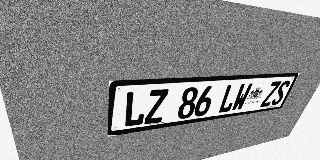6: (193, 85, 217, 117)
8: (176, 87, 200, 120)
L: (123, 90, 148, 128), (217, 84, 240, 114)
S: (270, 80, 291, 106)
W: (230, 83, 253, 112)
Z: (144, 89, 169, 125), (260, 81, 282, 107)
